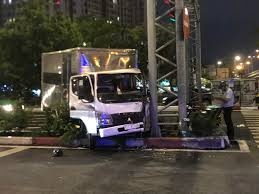Bien-so: (122, 123, 139, 132)
